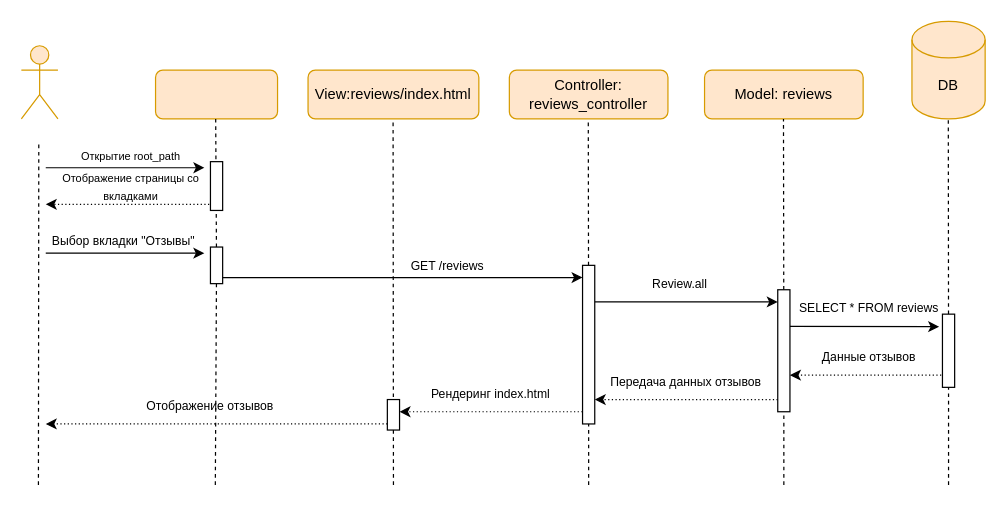
This 1007x508 diagram has some shape labels left out. Here are the shapes that lost their labels. From the top down, the box of each, then its label:
(20, 45, 58, 119): User
(154, 69, 278, 119): View:home.html
